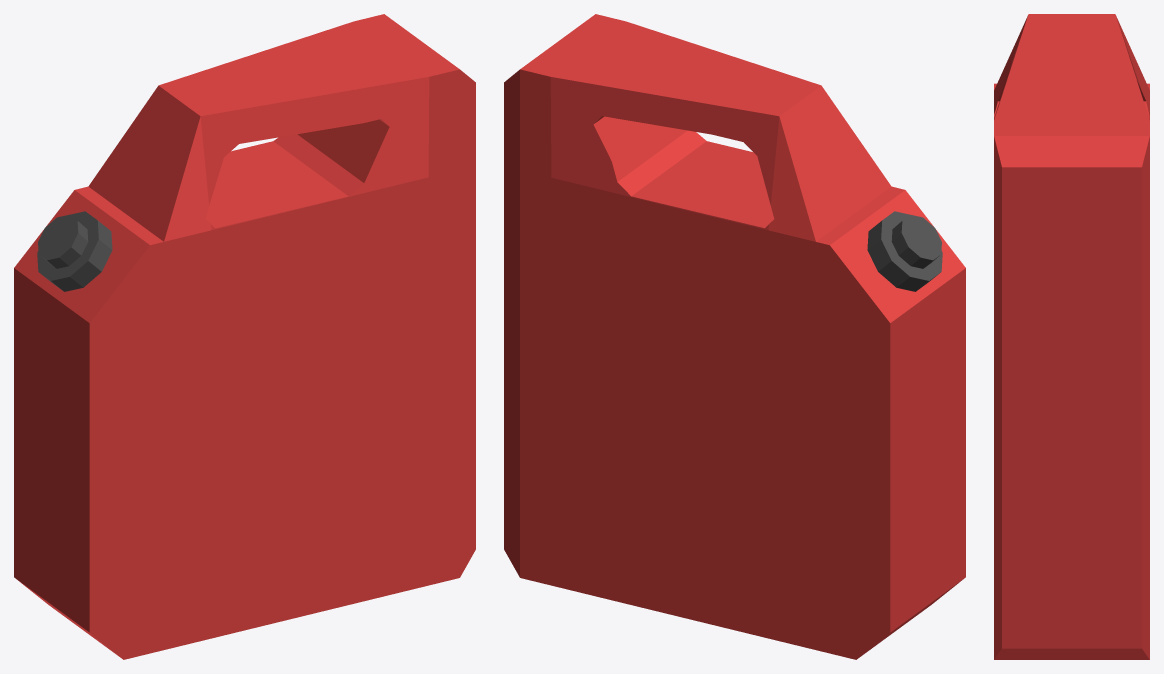
File: benzin.fbx
3 renders of one model, left to right at view 1: azimuth 30°, elevation 25°; view 2: azimuth 150°, elevation 25°; view 3: azimuth 270°, elevation 25°, orthographic. The views are drawn at different scales.
Parts seen in each view (by area): view 1: Cube.003; view 2: Cube.003; view 3: Cube.003.
Part boxes in pixels (bbox=[...]): Cube.003: bbox=[14, 14, 475, 659]; Cube.003: bbox=[504, 14, 965, 659]; Cube.003: bbox=[994, 14, 1149, 659].
Size of the model in its own units: 205 by 249 by 67.16.
